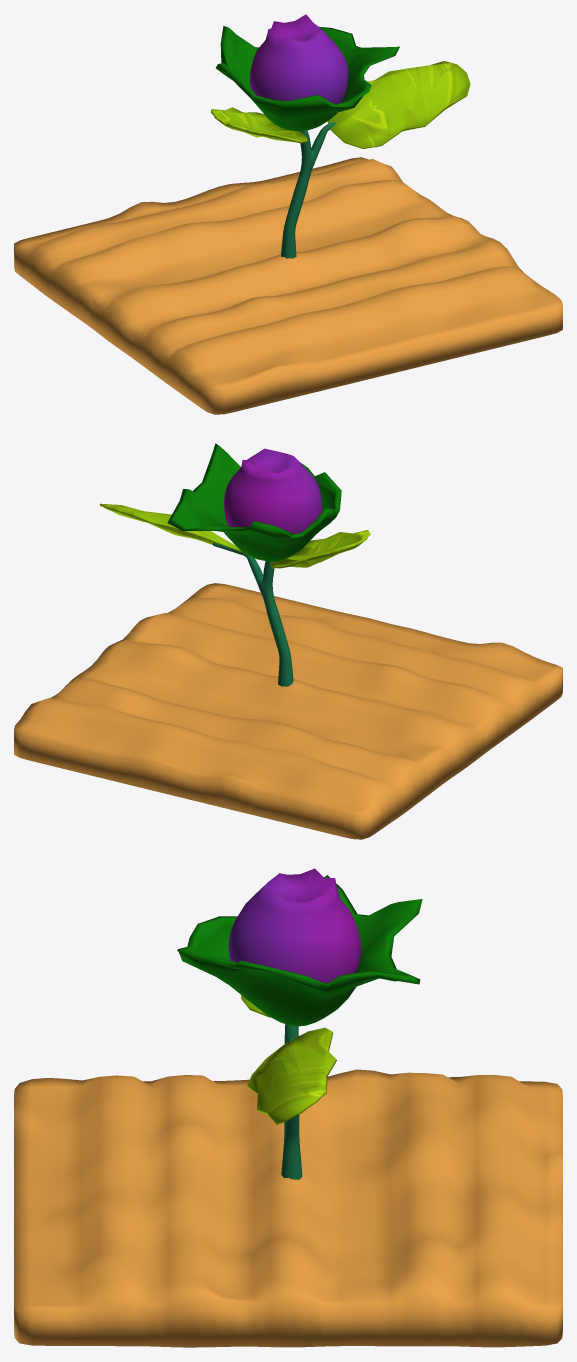
Rendered from เชอรี่่3.fbx.
The picture shows the model from 3 angles, top to bottom: view 1: azimuth 30°, elevation 25°; view 2: azimuth 150°, elevation 25°; view 3: azimuth 270°, elevation 25°; orthographic projection. The views are drawn at different scales.
Visible parts, largest first — view 1: พื้น, Circle.004; view 2: พื้น, Circle.004; view 3: พื้น, Circle.004.
Boxes of the visible parts, box(x1,y1,x2,y2) form: พื้น: box(14, 157, 562, 414); Circle.004: box(211, 14, 470, 258); พื้น: box(14, 583, 562, 839); Circle.004: box(99, 443, 370, 686); พื้น: box(14, 1069, 562, 1347); Circle.004: box(177, 868, 422, 1179).
Bounding box in the file's own units: 204 × 143 × 200.
